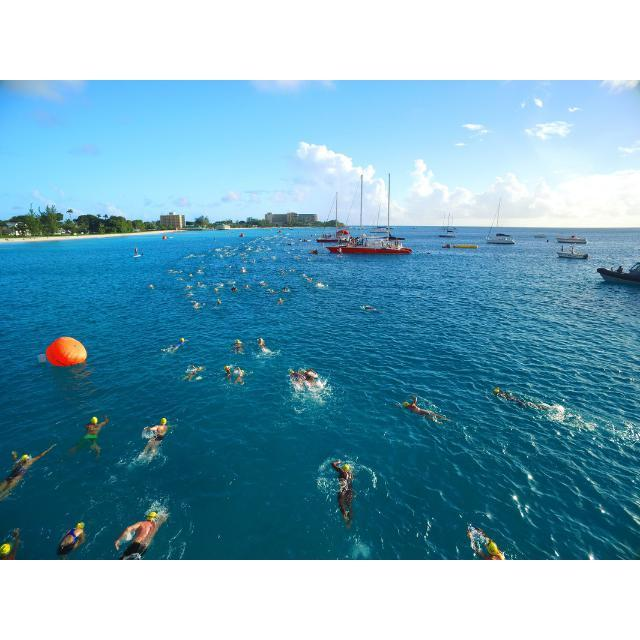human: (1, 442, 67, 505), (120, 508, 166, 558), (333, 456, 358, 527), (139, 416, 172, 467), (466, 526, 509, 559), (59, 517, 87, 557), (84, 414, 109, 456), (402, 392, 439, 420), (496, 387, 538, 410), (1, 526, 26, 559), (182, 363, 204, 382), (164, 338, 188, 355), (233, 363, 246, 387), (233, 336, 243, 358), (257, 337, 268, 351)
